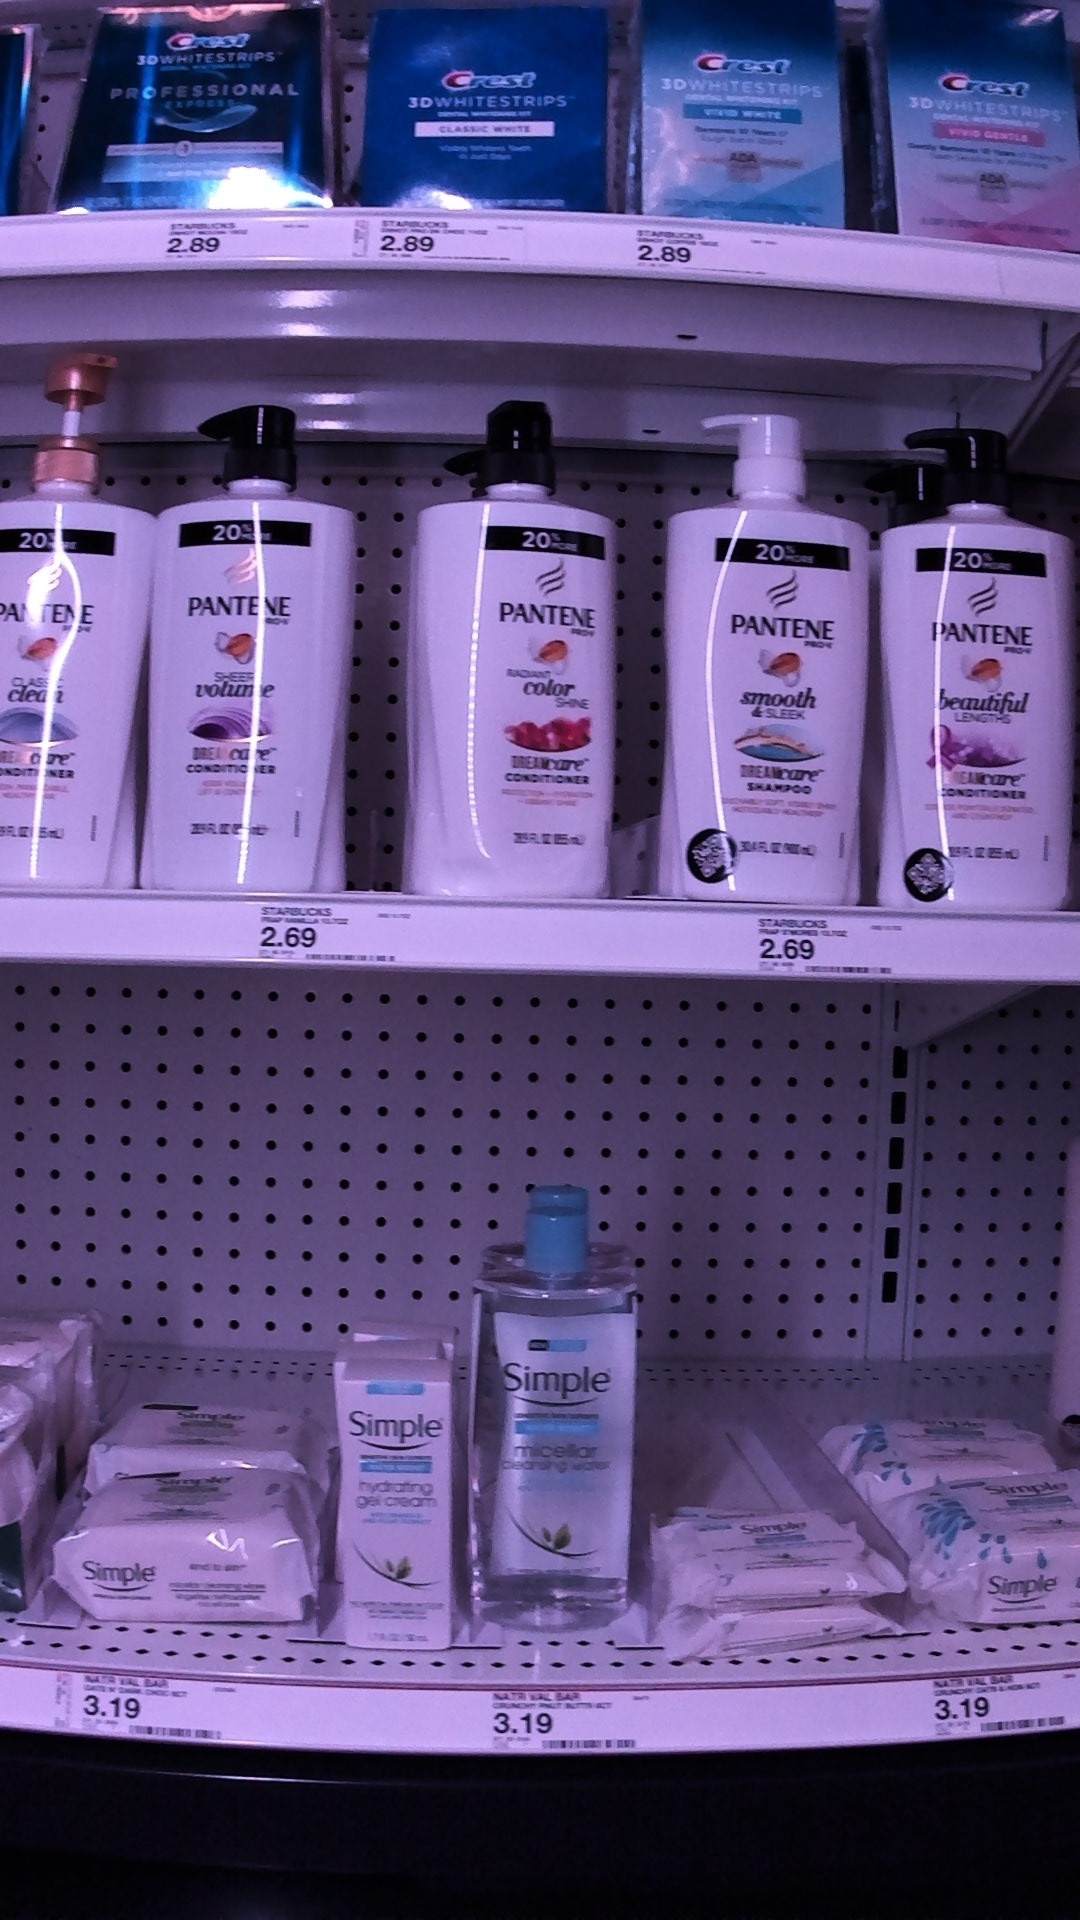ptag: (483, 1683, 666, 1756), (926, 1665, 1080, 1749), (255, 886, 415, 964), (340, 215, 541, 276), (753, 909, 906, 982), (629, 214, 785, 286), (80, 1683, 251, 1742), (162, 214, 305, 273)
